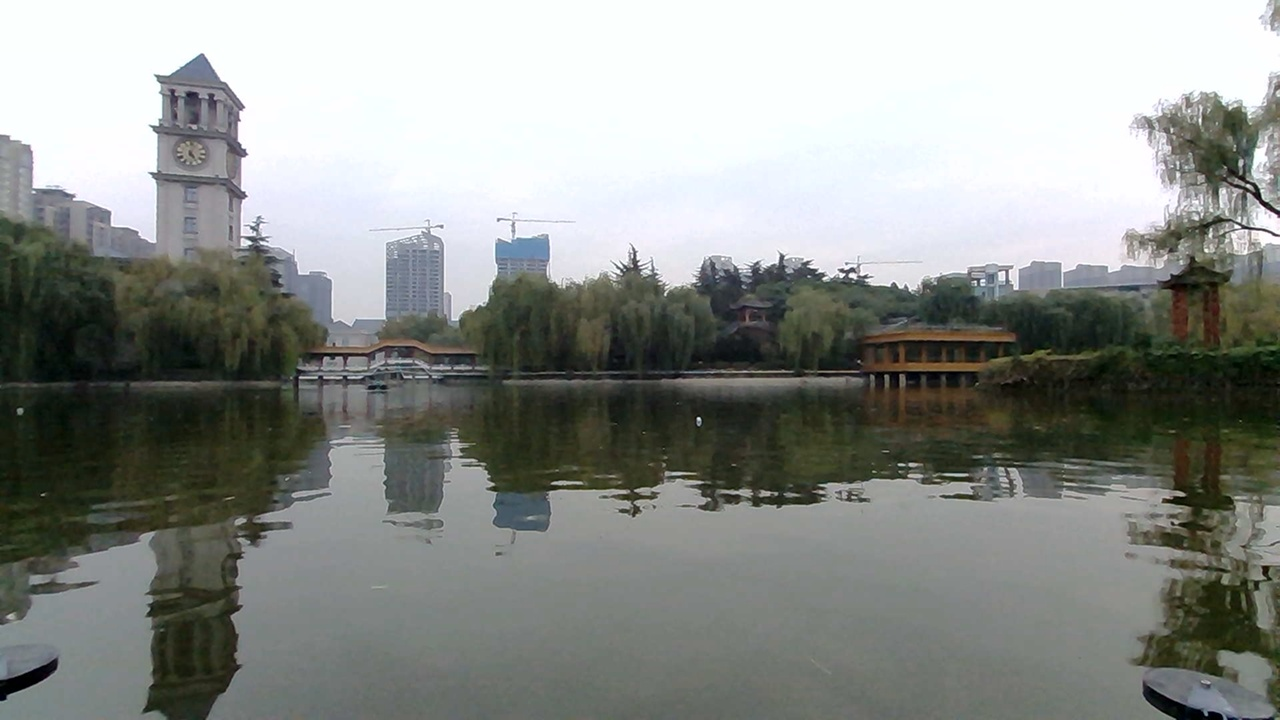bottle: (671, 404, 705, 429)
